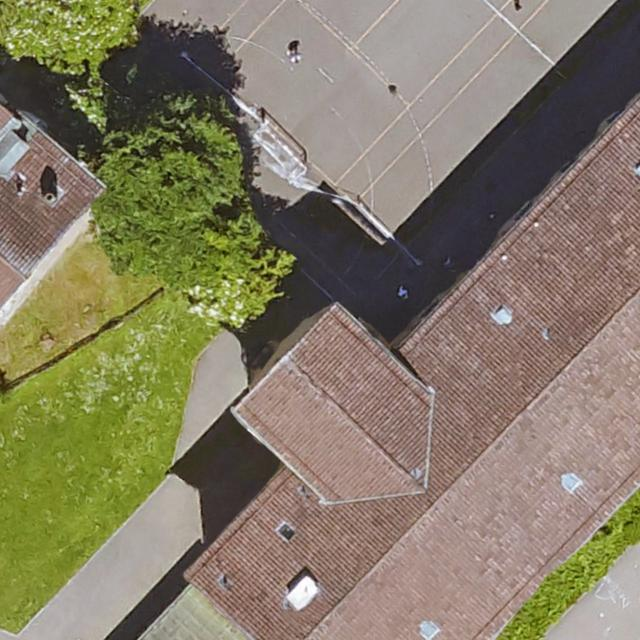tree: (95, 95, 250, 297), (184, 209, 292, 329), (0, 0, 143, 76)
